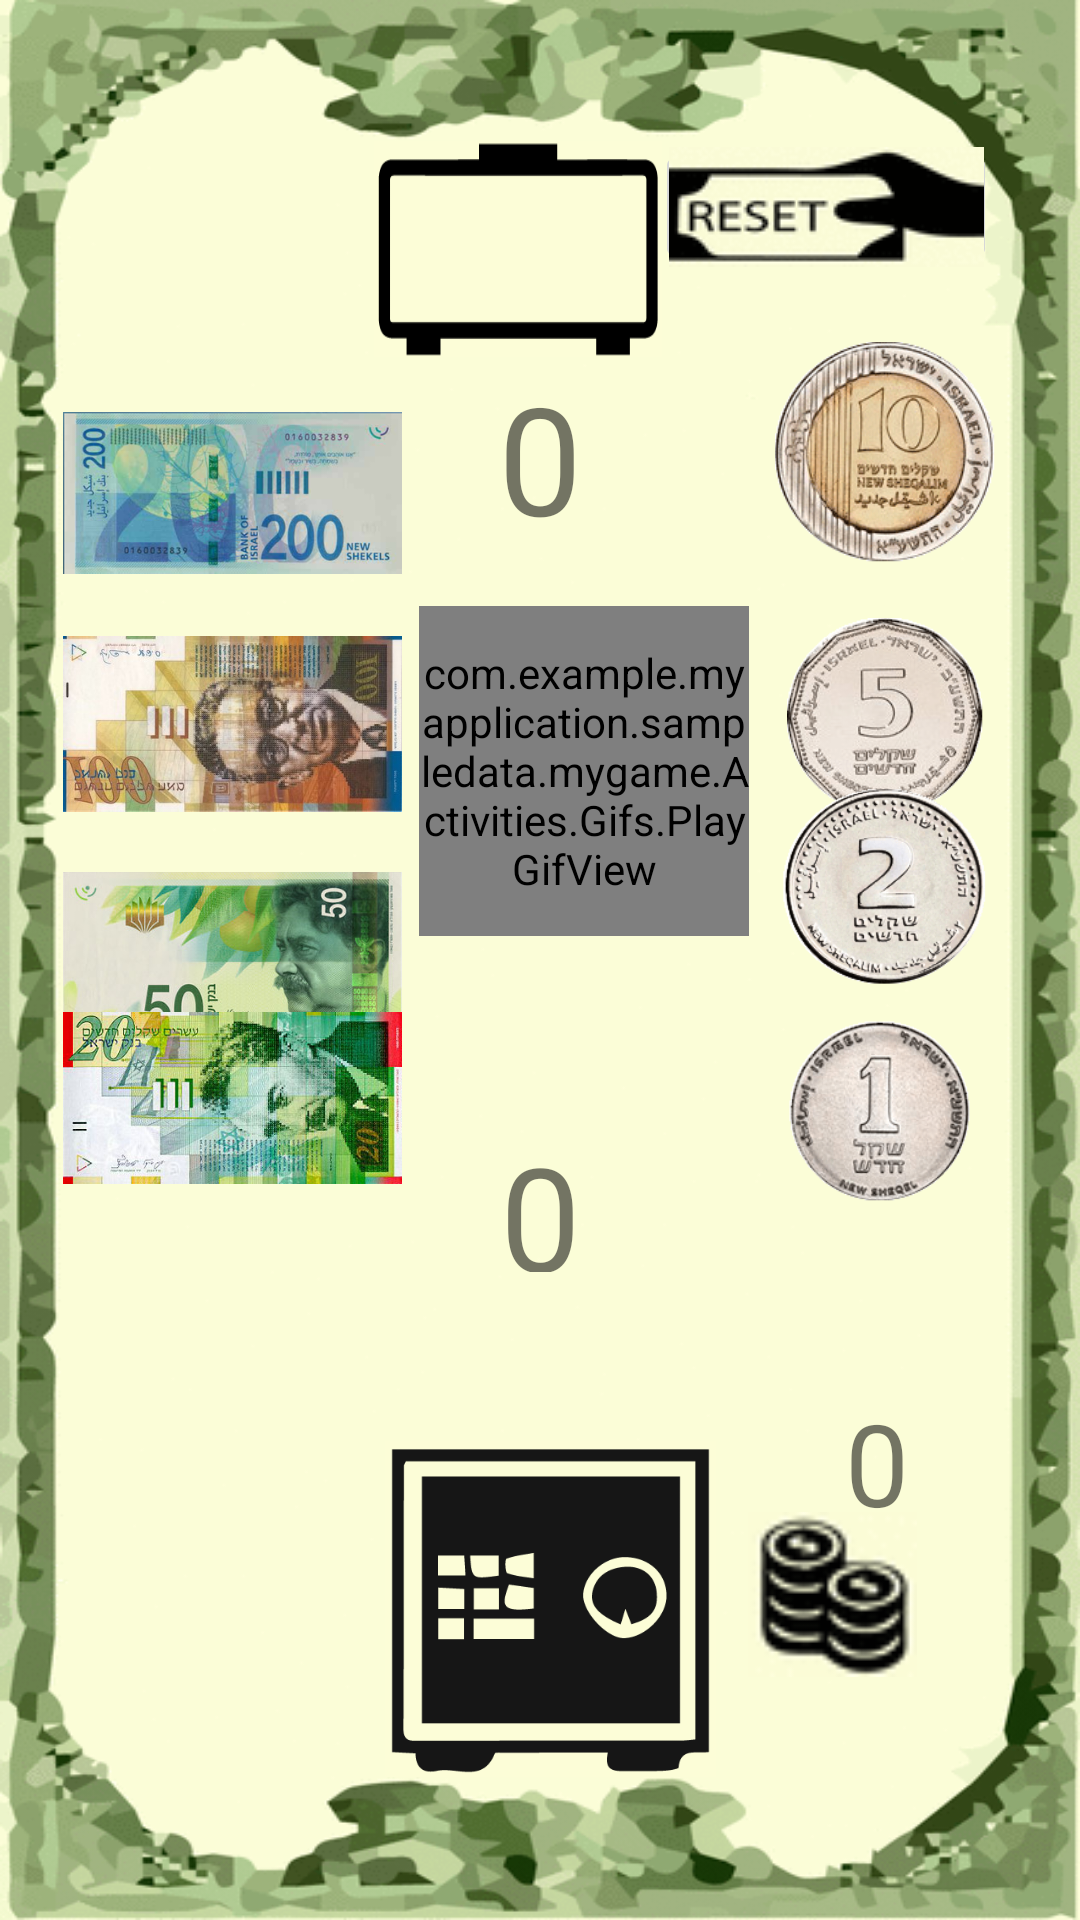

Icons on this 1080px x 1920px Android screen, each with the point to tap as (x=x, y=y):
fifty shekels: (x=232, y=968)
five shekalim: (x=886, y=715)
one hundred shekels: (x=232, y=724)
one shekalim: (x=879, y=1111)
ten shekalim: (x=884, y=452)
twenty shekels: (x=232, y=1088)
